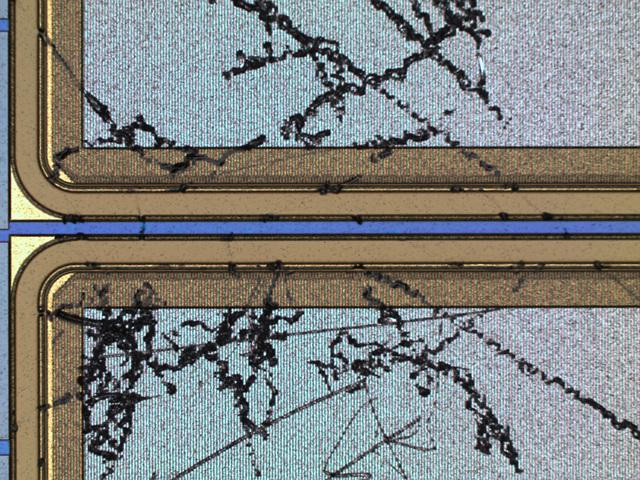SCRATCH: (13, 1, 640, 480)
